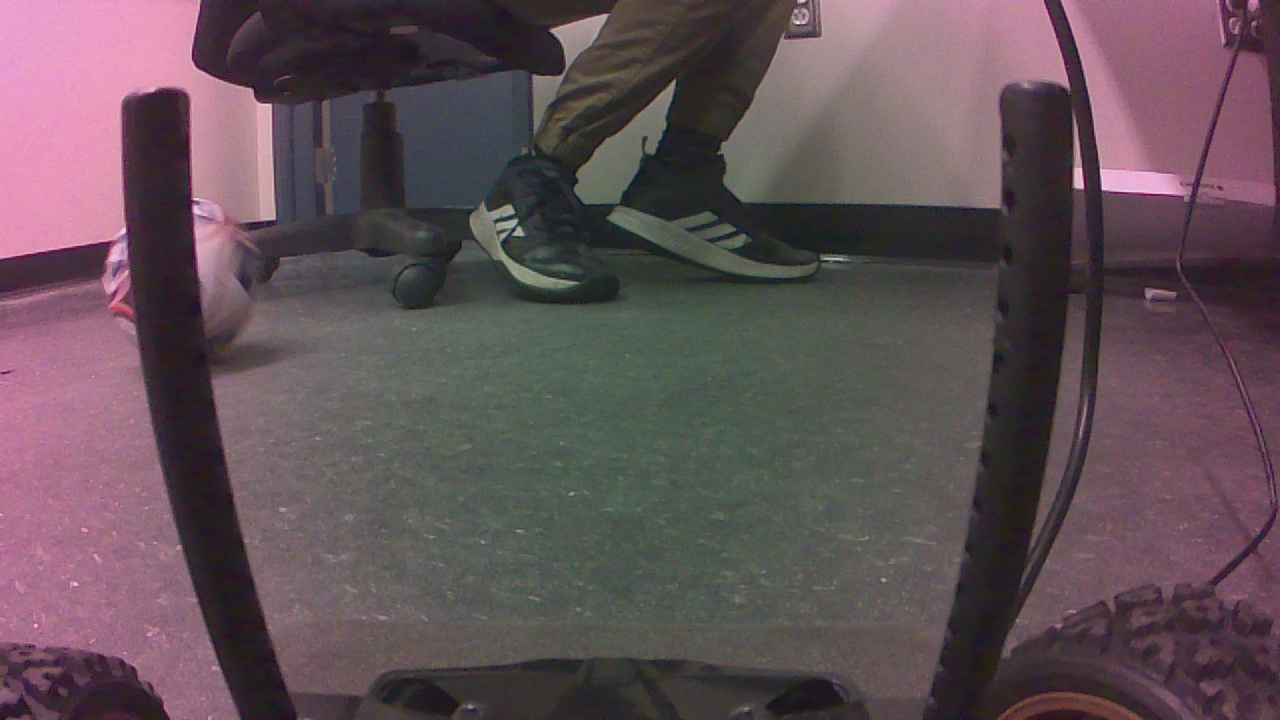ball: (107, 198, 269, 362)
